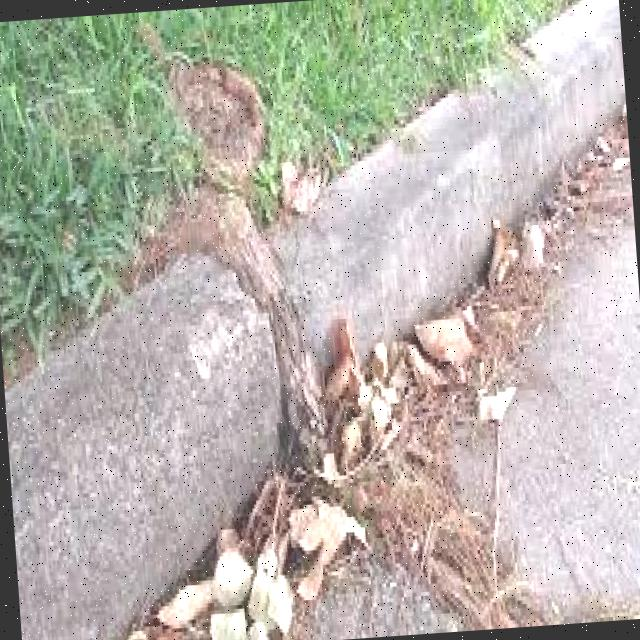curb: (1, 181, 339, 640), (311, 1, 638, 353)
